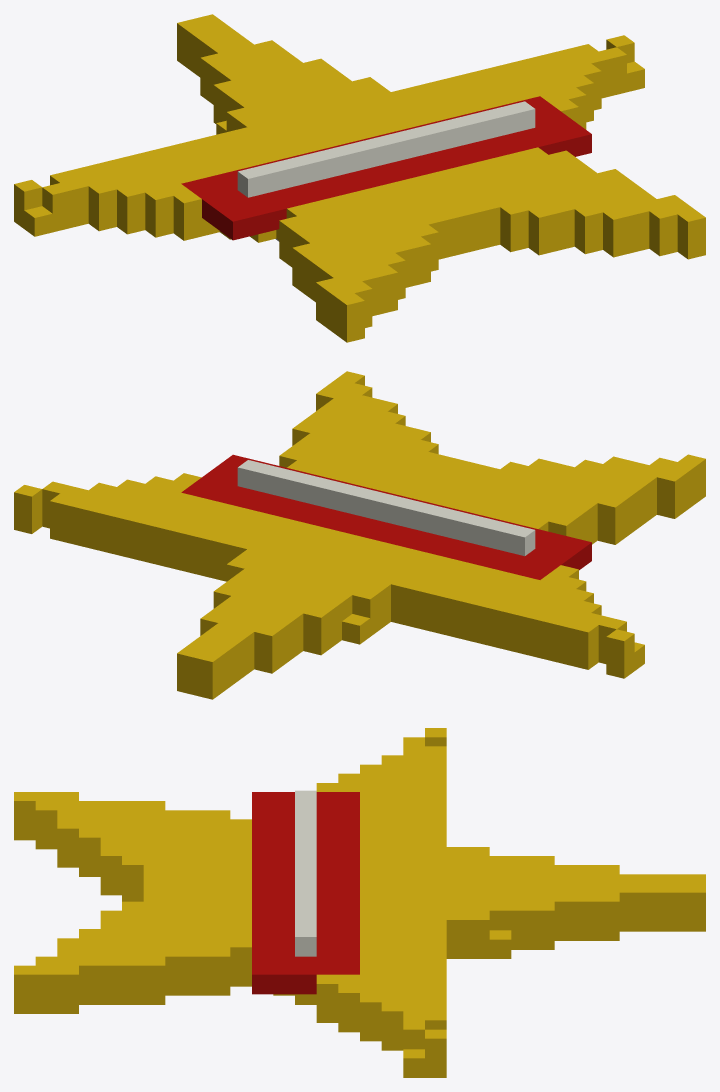
The model's file is badge_kids_star.glb.
3 renders of one model, top to bottom at view 1: azimuth 30°, elevation 25°; view 2: azimuth 150°, elevation 25°; view 3: azimuth 270°, elevation 25°, orthographic. The views are drawn at different scales.
Parts seen in each view (by area): view 1: badge_kids_star:compound; view 2: badge_kids_star:compound; view 3: badge_kids_star:compound.
Boxes of the visible parts, x1,y1,x2,y2 form: badge_kids_star:compound: [14, 14, 705, 342]; badge_kids_star:compound: [14, 371, 705, 699]; badge_kids_star:compound: [14, 728, 705, 1077].
Bounding box in the file's own units: 0.068 × 0.008 × 0.064.
